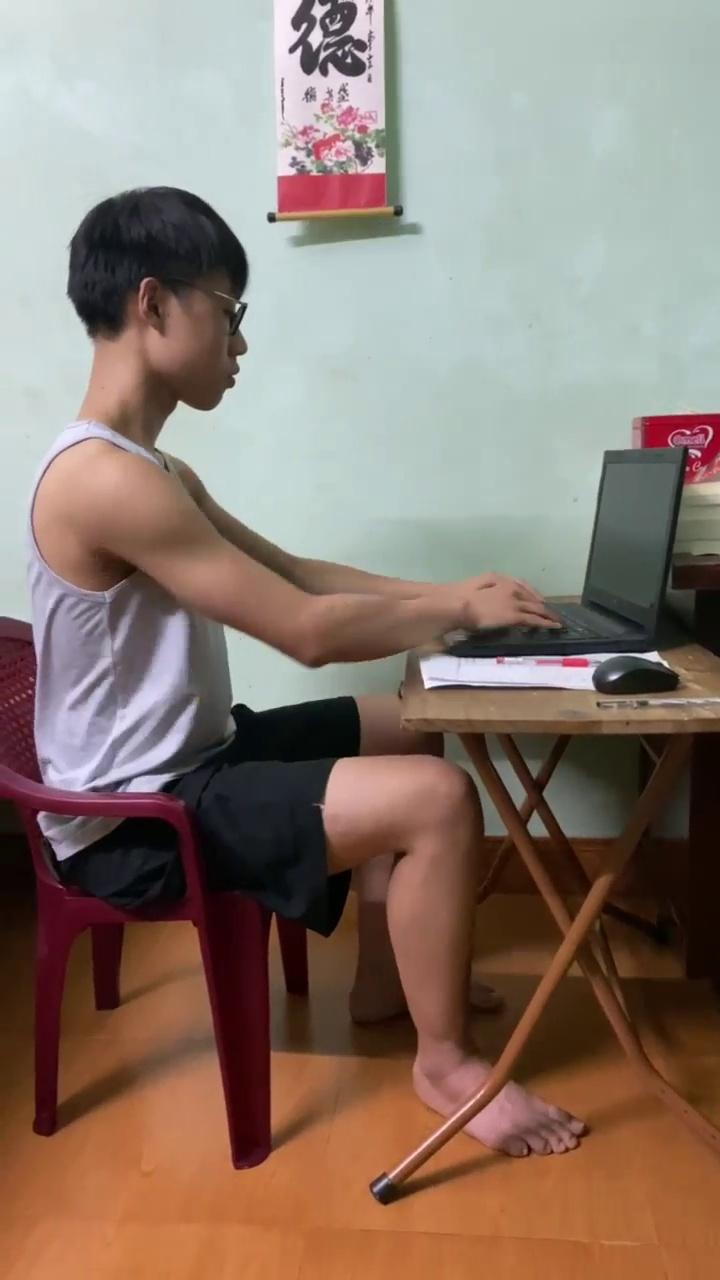GoodPosture: (29, 186, 550, 1116)
